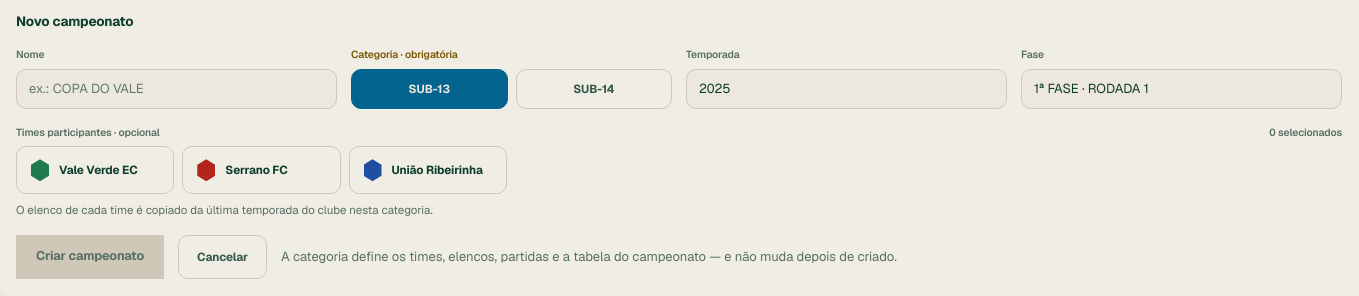
NewChampionshipPanel › switches the club list and clears the selection when another category is chosen
The width and height of the screenshot is (1359, 296).
Click the checkbox labelled "Vale Verde EC" at [95, 170], box [16, 146, 174, 194]
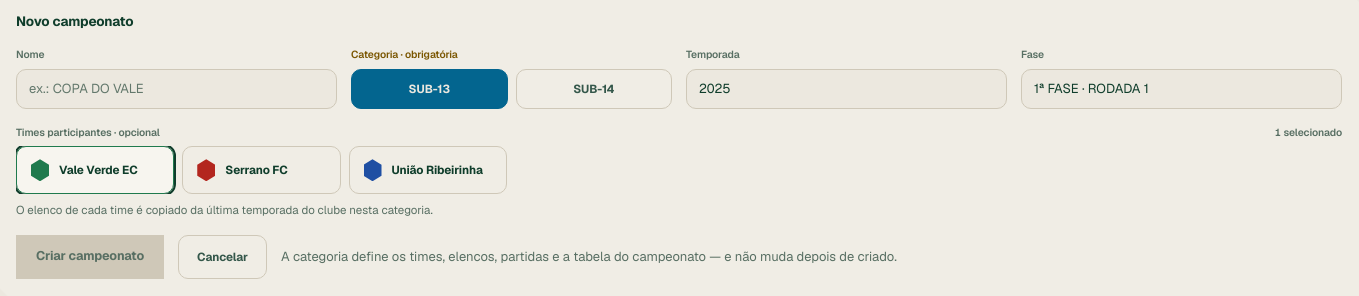
Click the button "SUB-14" at [594, 89], box [516, 69, 672, 109]
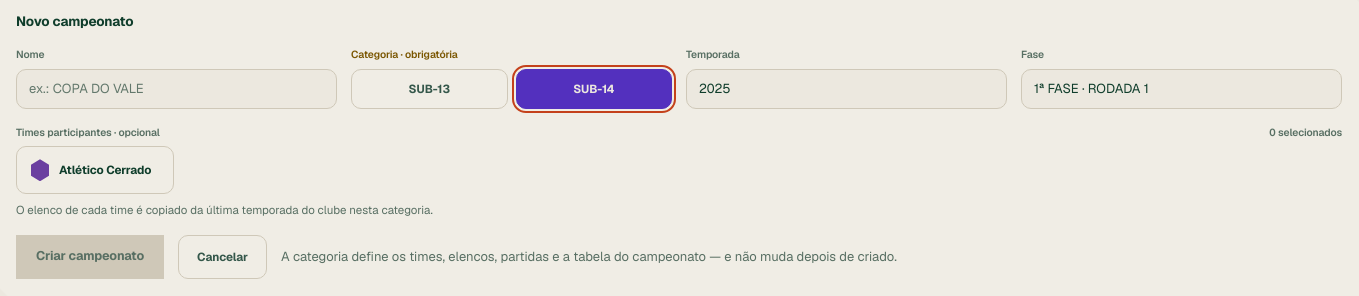
Check: the checkbox labelled "Atlético Cerrado" is not checked, box [16, 146, 174, 194]
Check: the text "0 selecionados" is shown, box [1269, 125, 1342, 140]
